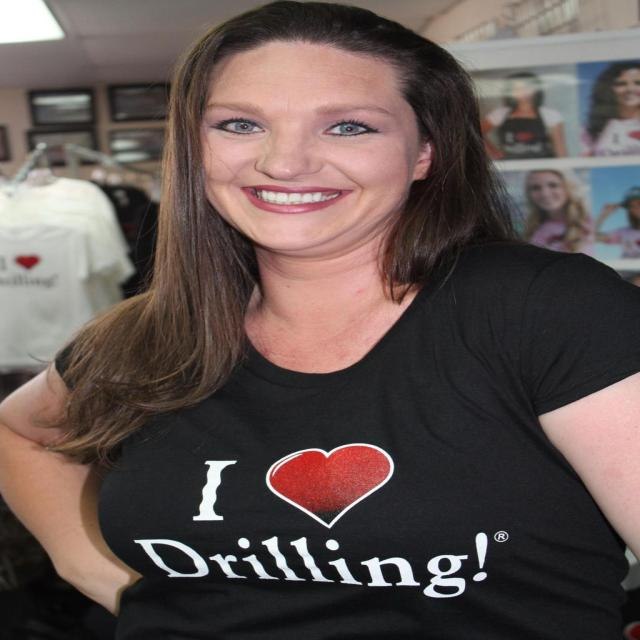Face: (206, 35, 446, 255)
